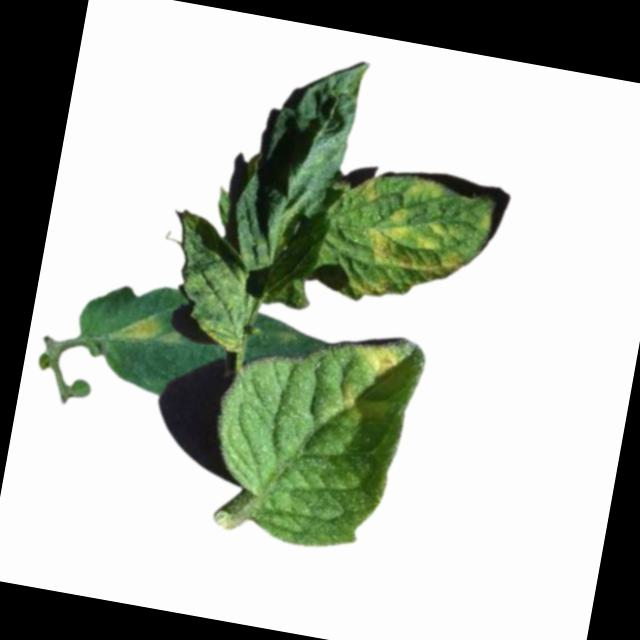Leaf_Mold: (359, 207, 471, 314), (107, 309, 186, 353), (354, 338, 398, 378), (404, 174, 446, 204), (334, 379, 357, 413), (355, 173, 381, 200)
